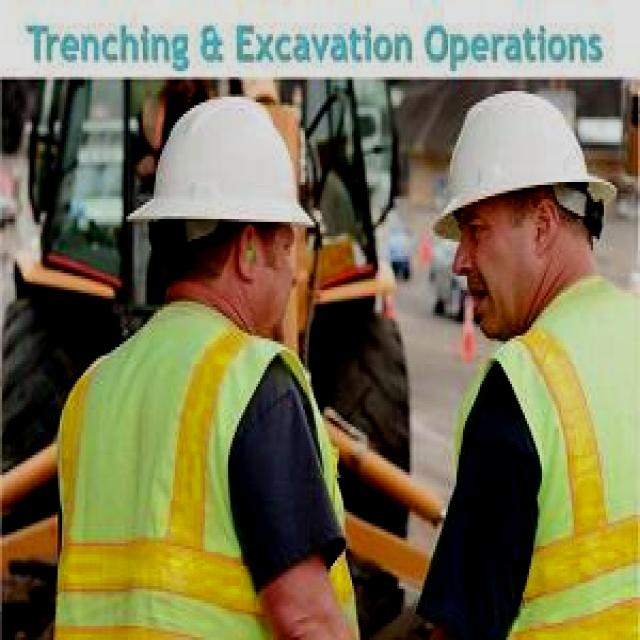face_nomask: (446, 216, 544, 342), (243, 211, 307, 344)
head_helmet: (133, 100, 330, 230), (427, 100, 614, 208)
person: (42, 88, 376, 634), (426, 91, 640, 620)
vest: (60, 316, 369, 634), (480, 296, 640, 634)
